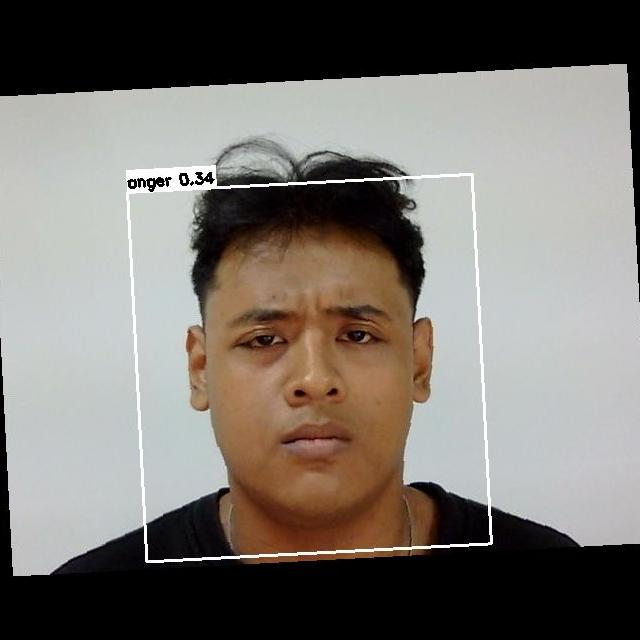Angry: (203, 280, 427, 484)
